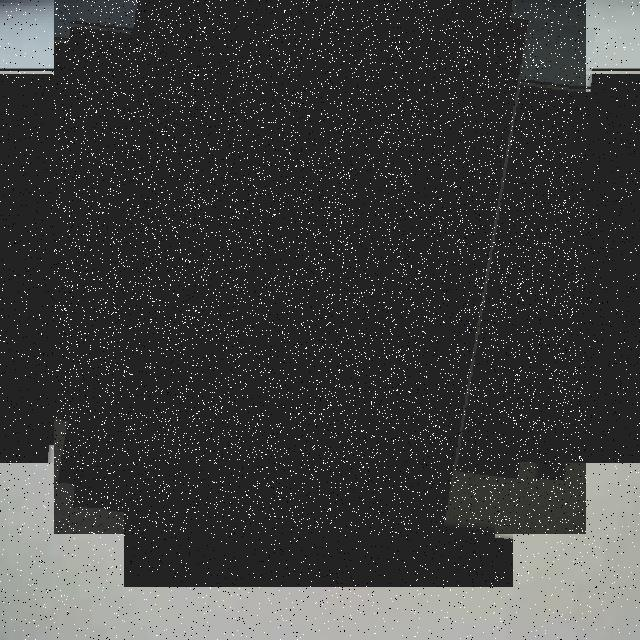dua puluh ribu rupiah: (54, 0, 586, 534)
